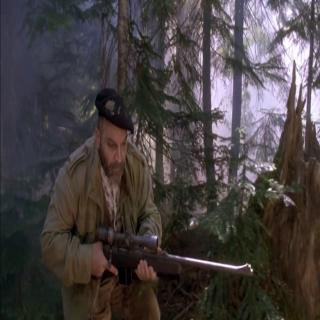gun: (77, 228, 253, 291)
